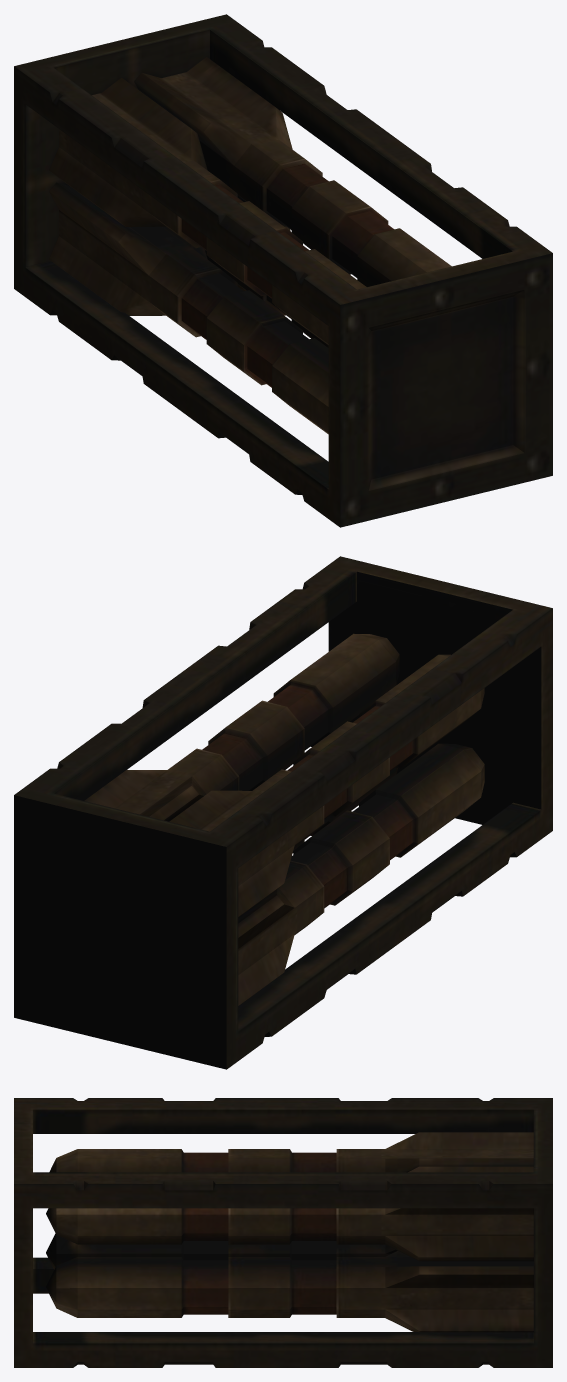
The model's file is b_rock0.obj.
3 renders of one model, top to bottom at view 1: azimuth 30°, elevation 25°; view 2: azimuth 150°, elevation 25°; view 3: azimuth 270°, elevation 25°, orthographic. The views are drawn at different scales.
Size of the model in its own units: 15 by 15 by 39.84.
Materials: 1 (1 with a texture image).
